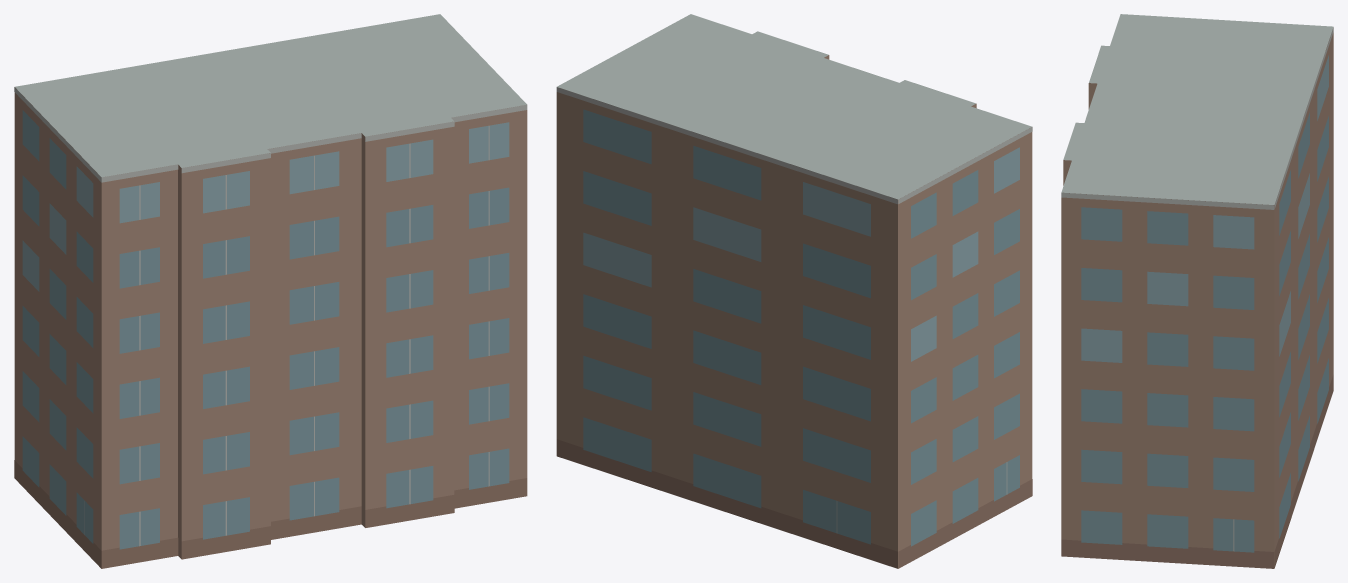
Rendered from survey-upis-32667627.glb.
The picture shows the model from 3 angles, left to right: view 1: azimuth 30°, elevation 25°; view 2: azimuth 150°, elevation 25°; view 3: azimuth 270°, elevation 25°; orthographic projection. The views are drawn at different scales.
Parts seen in each view (by area): view 1: survey-upis-32667627.tmp; view 2: survey-upis-32667627.tmp; view 3: survey-upis-32667627.tmp.
Part boxes in pixels (<box>): survey-upis-32667627.tmp: <box>14,14,527,568</box>; survey-upis-32667627.tmp: <box>556,14,1032,568</box>; survey-upis-32667627.tmp: <box>1061,14,1333,568</box>.
Size of the model in its own units: 20.63 by 18.3 by 12.43.
